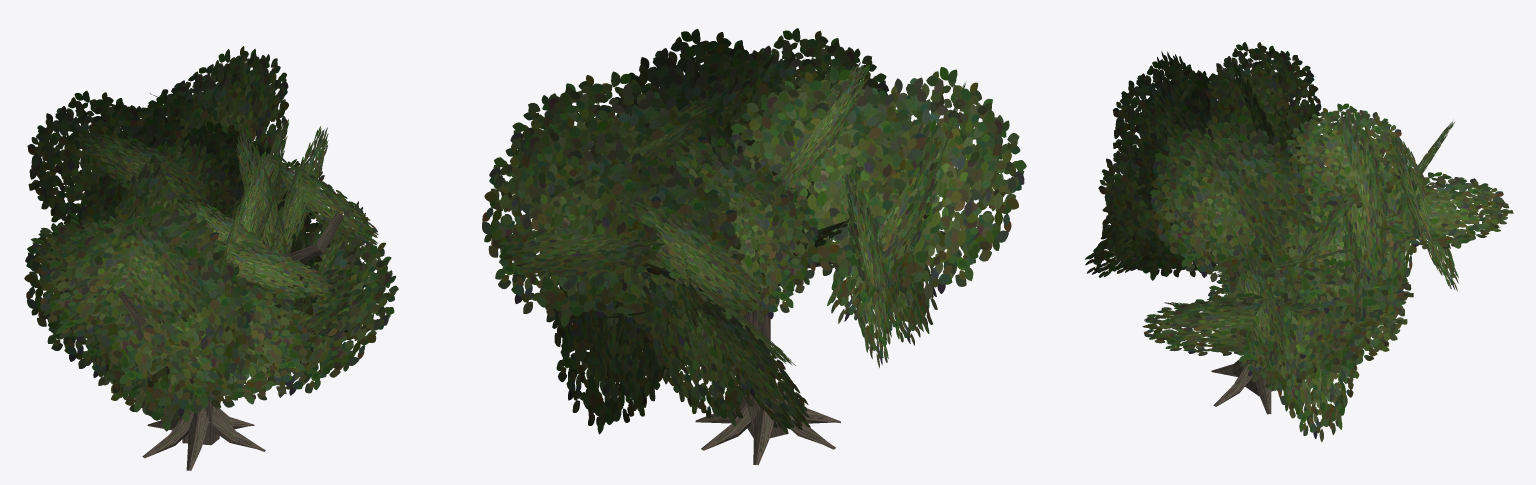
Rendered from TwistedTree_3_LOD2.gltf.
3 renders of one model, left to right at view 1: azimuth 30°, elevation 25°; view 2: azimuth 150°, elevation 25°; view 3: azimuth 270°, elevation 25°, orthographic. The views are drawn at different scales.
Parts seen in each view (by area): view 1: TwistedTree_3_LOD2; view 2: TwistedTree_3_LOD2; view 3: TwistedTree_3_LOD2.
Boxes of the visible parts, left/top/right/bottom form: TwistedTree_3_LOD2: left=24, top=46, right=398, bottom=470; TwistedTree_3_LOD2: left=482, top=28, right=1026, bottom=465; TwistedTree_3_LOD2: left=1085, top=42, right=1513, bottom=441.
Bounding box in the file's own units: 19.53 × 16.64 × 21.24.
Materials: 2 (2 with a texture image).
